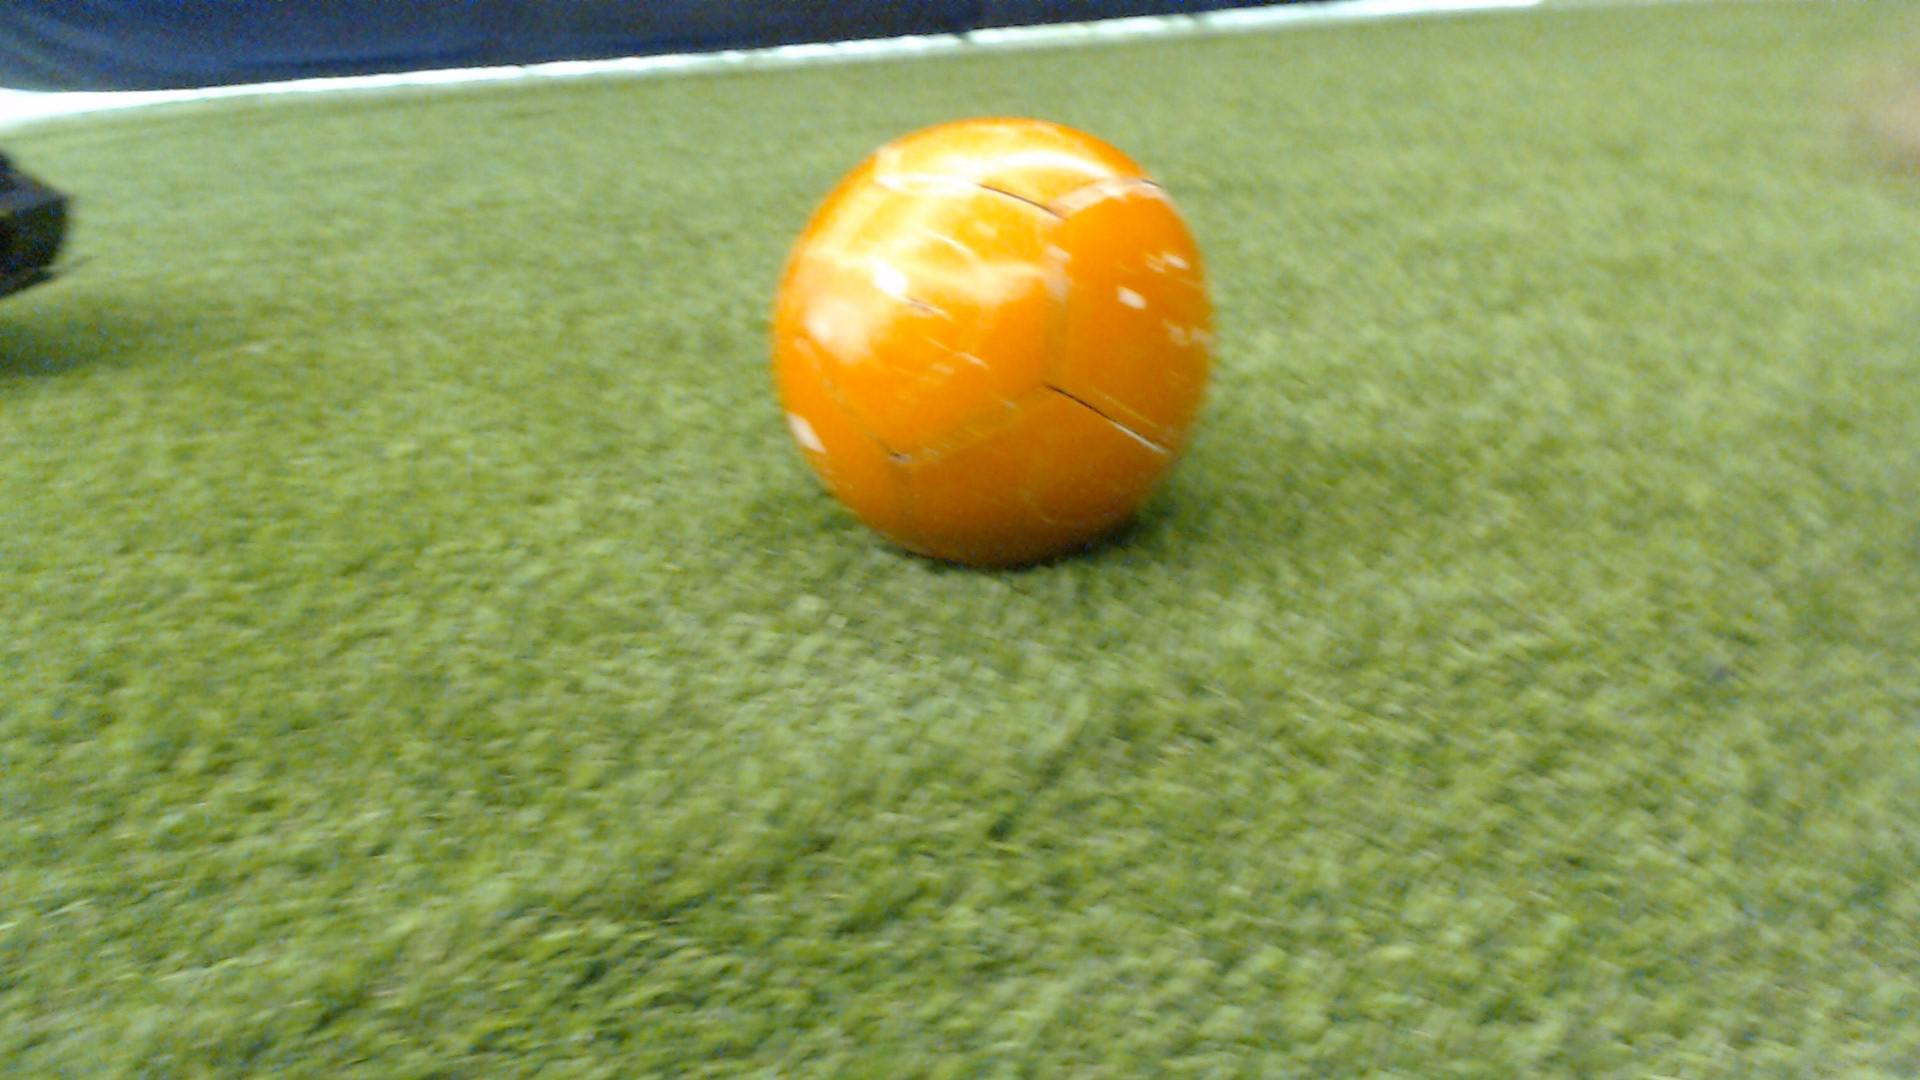bola: (754, 86, 1251, 588)
